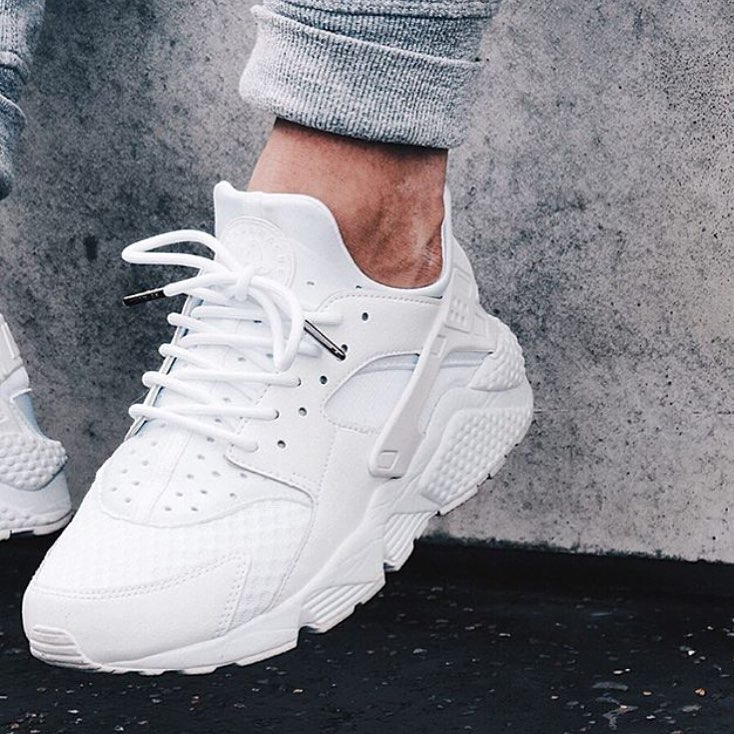sneaker: (1, 107, 555, 689)
